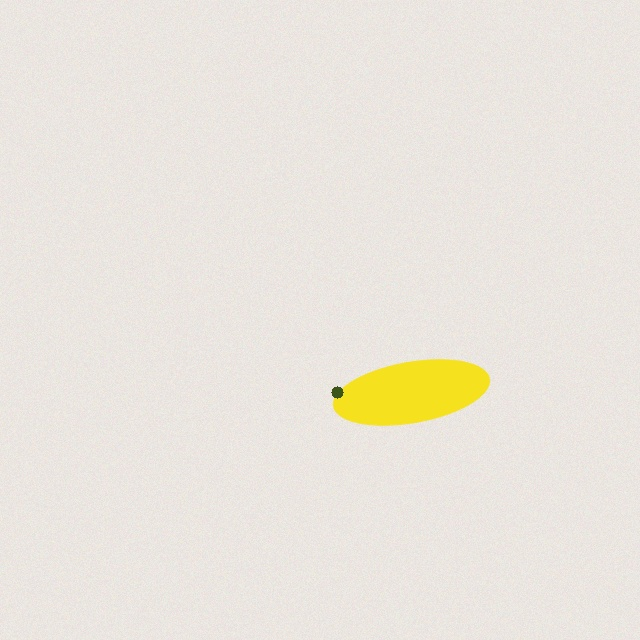Fresh banana: (329, 355, 493, 429)
